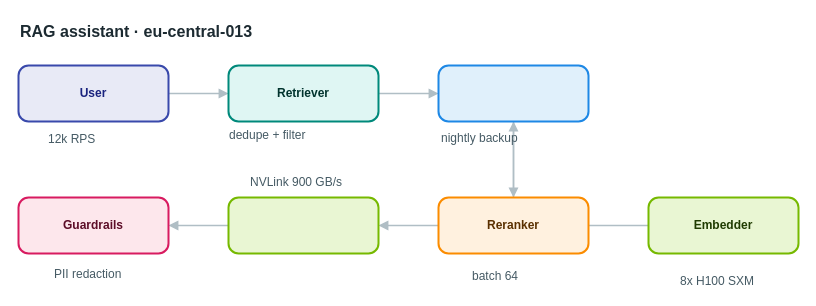
This 816x306 diagram has some shape labels left out. Each missing label, with the centre of its shape:
"Nemotron" goes at (303,225).
"Vector DB" goes at (513,93).
